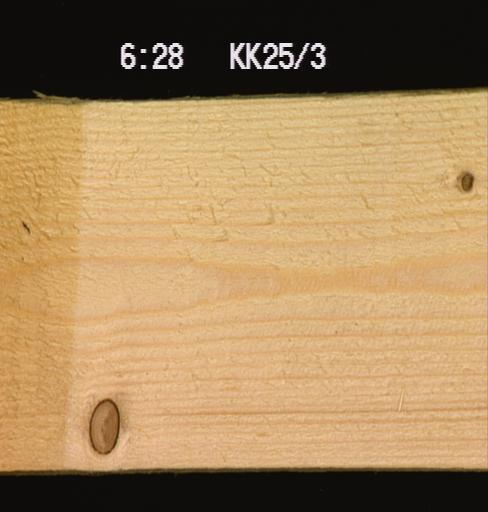dry_knot: (85, 396, 121, 455)
small_knot: (457, 168, 475, 193)
